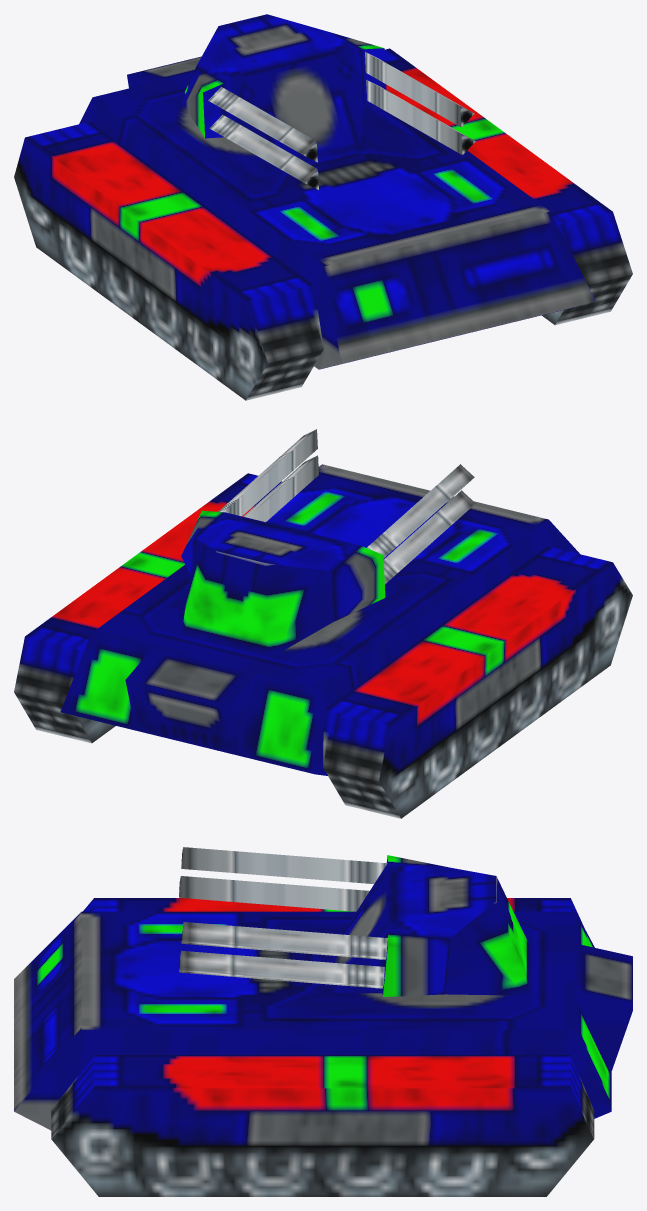
Rendered from partisan.glb.
3 renders of one model, top to bottom at view 1: azimuth 30°, elevation 25°; view 2: azimuth 150°, elevation 25°; view 3: azimuth 270°, elevation 25°, orthographic. The views are drawn at different scales.
Parts seen in each view (by area): view 1: Partisan Body, Partisan Turret; view 2: Partisan Body, Partisan Turret; view 3: Partisan Body, Partisan Turret.
Boxes of the visible parts, x1,y1,x2,y2 form: Partisan Body: [14, 48, 632, 400]; Partisan Turret: [182, 14, 475, 189]; Partisan Body: [14, 464, 632, 818]; Partisan Turret: [181, 429, 475, 656]; Partisan Body: [14, 898, 632, 1196]; Partisan Turret: [179, 847, 530, 996].
Size of the model in its own units: 7.23 by 3.85 by 9.94.
Materials: 1 (1 with a texture image).
